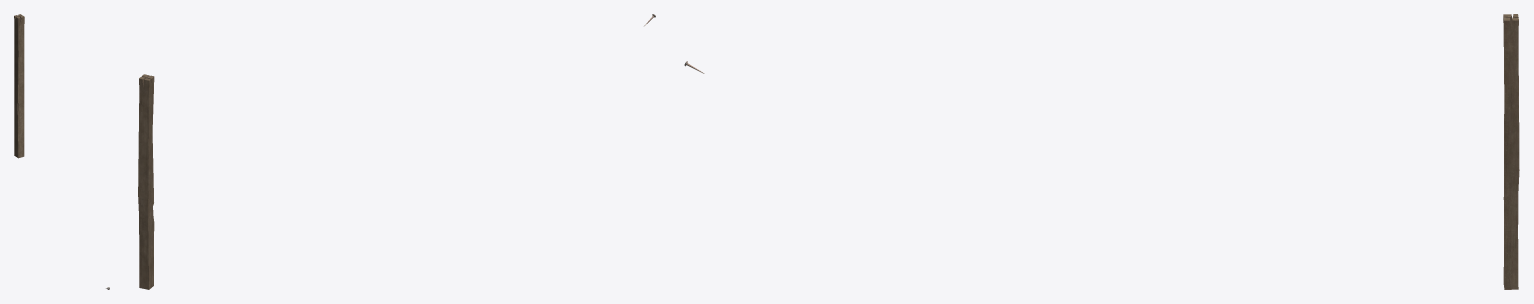
Rendered from sign3_pole.glb.
The picture shows the model from 3 angles, left to right: view 1: azimuth 30°, elevation 25°; view 2: azimuth 150°, elevation 25°; view 3: azimuth 270°, elevation 25°; orthographic projection. The views are drawn at different scales.
Parts seen in each view (by area): view 1: defaultMaterial.004; view 2: defaultMaterial.004; view 3: defaultMaterial.004.
Boxes of the visible parts, x1,y1,x2,y2 form: defaultMaterial.004: [14, 14, 24, 158]; defaultMaterial.004: [138, 74, 154, 289]; defaultMaterial.004: [1503, 14, 1519, 289].
Size of the model in its own units: 2.48 by 2.56 by 7.19.
2 materials, 2 textured.
